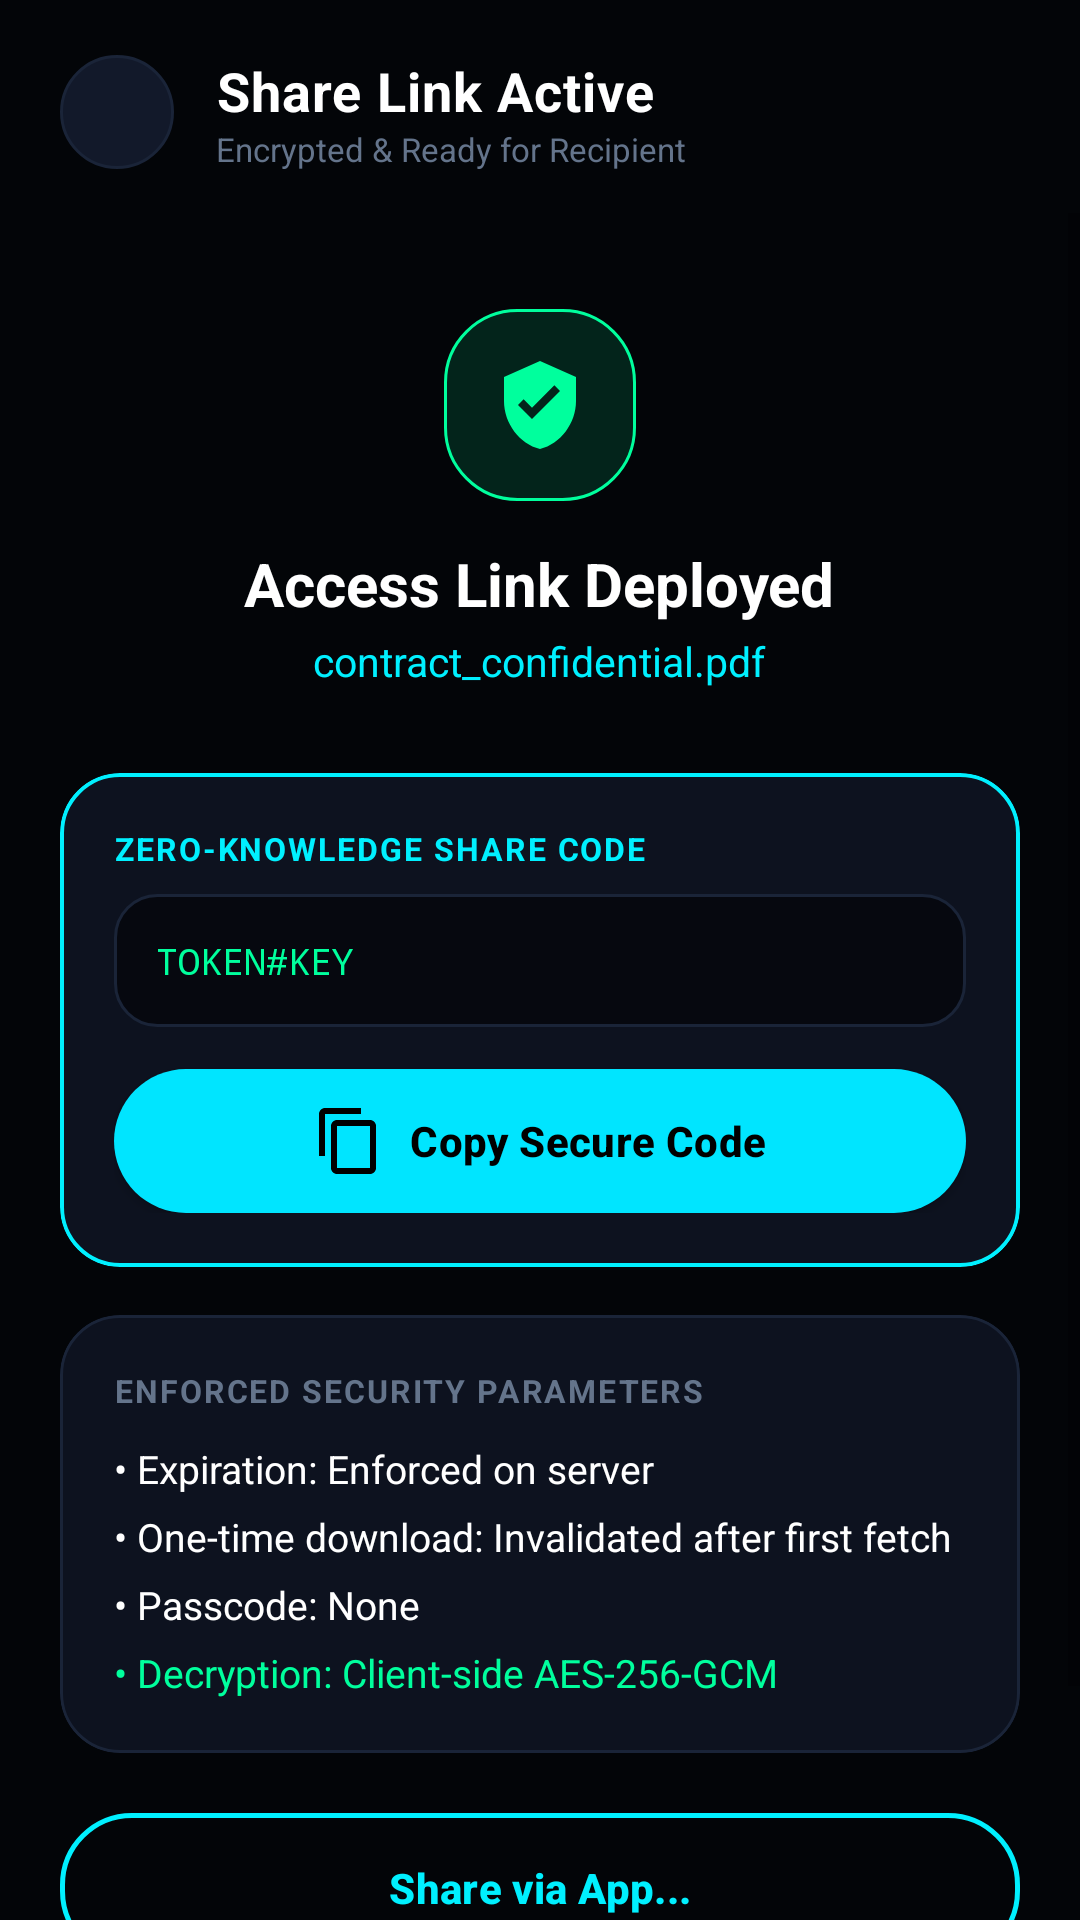

Where icons sit on this 1080×1920 app screen, as (x1, y1, x2, y2):
shield check: (444, 309, 636, 501)
